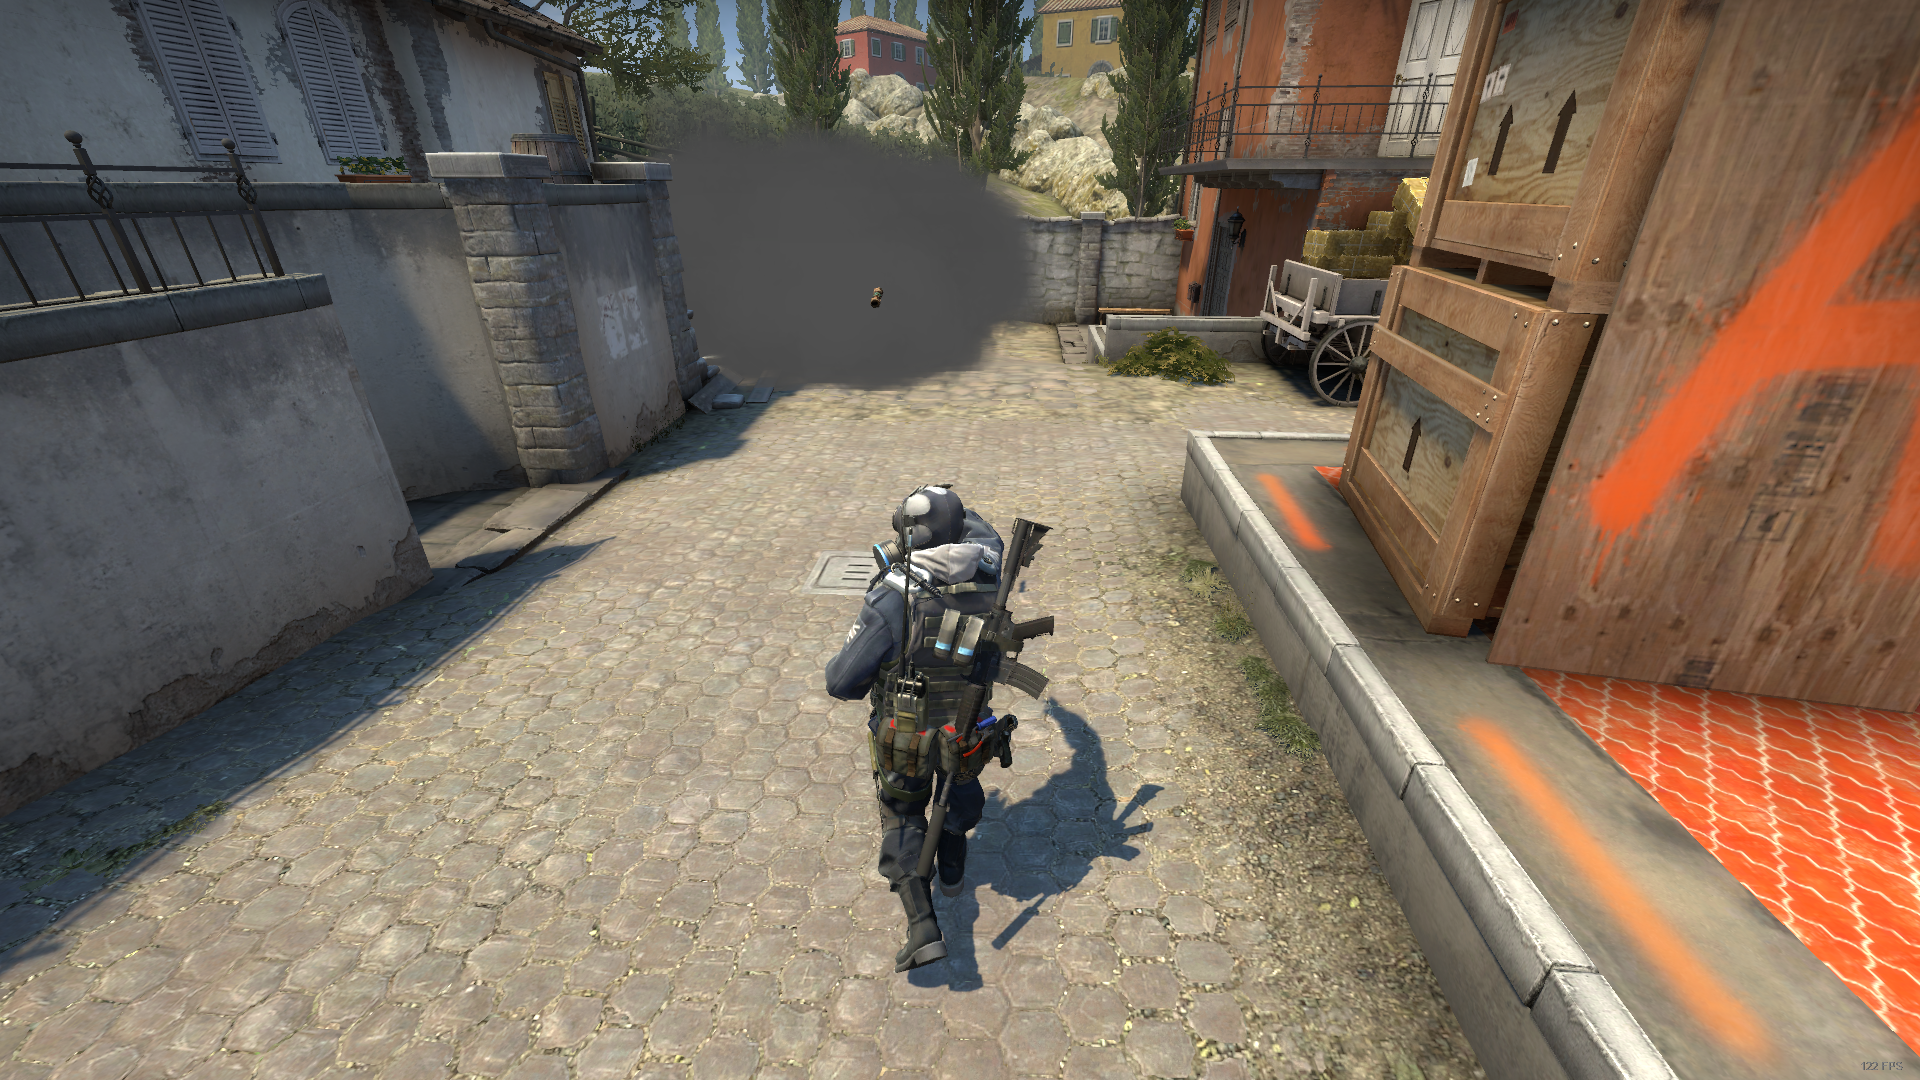ct: (829, 485, 1009, 978)
